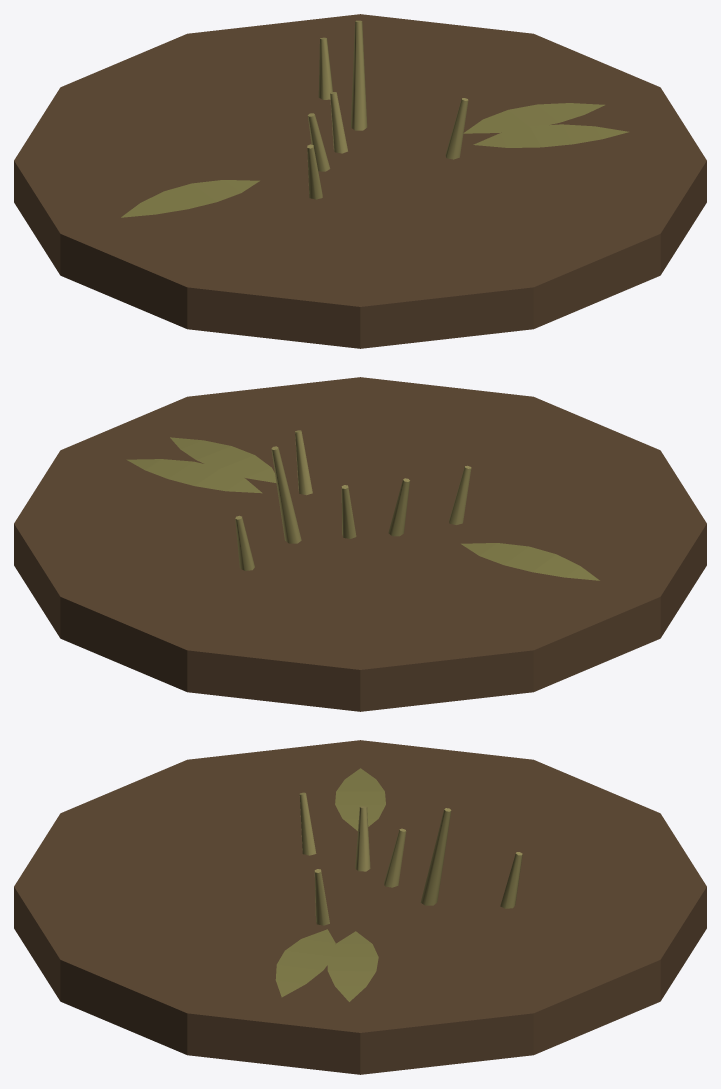
File: moorgloeckchen-geerntet.glb
The picture shows the model from 3 angles, top to bottom: view 1: azimuth 30°, elevation 25°; view 2: azimuth 150°, elevation 25°; view 3: azimuth 270°, elevation 25°; orthographic projection.
Visible parts, largest first — view 1: moorgloeckchen; view 2: moorgloeckchen; view 3: moorgloeckchen.
Part boxes in pixels (box(x1,y1,x2,y2)): moorgloeckchen: box(14, 14, 706, 348); moorgloeckchen: box(14, 377, 706, 711); moorgloeckchen: box(14, 740, 706, 1074).
Bounding box in the file's own units: 0.3 × 0.0667 × 0.3.
